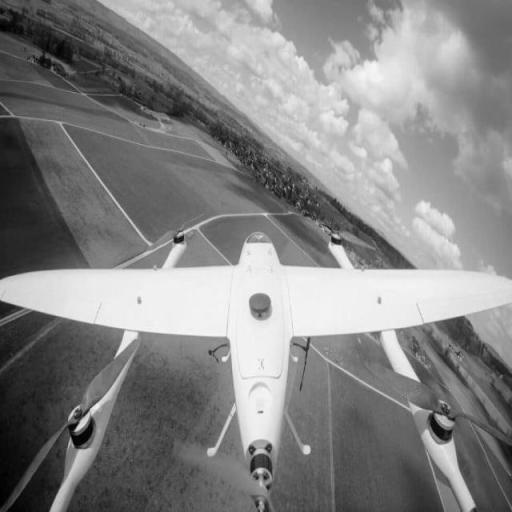uav: (0, 215, 512, 511)
